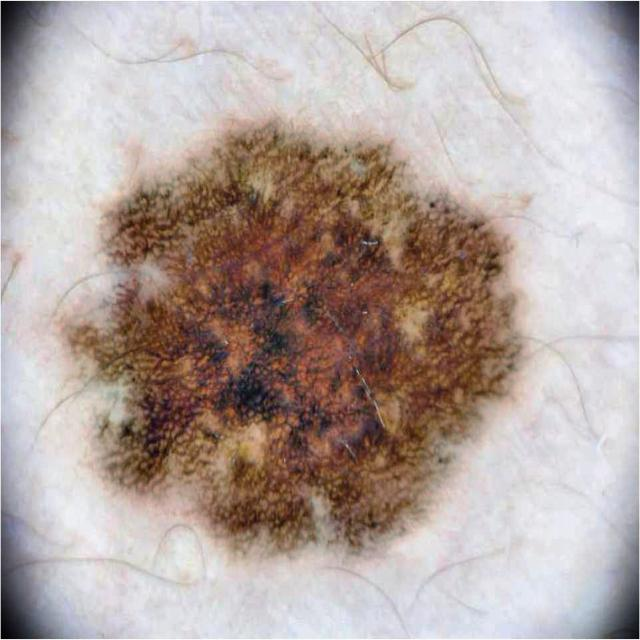Melanocytic-Nevi-NV-: (68, 120, 520, 550)
